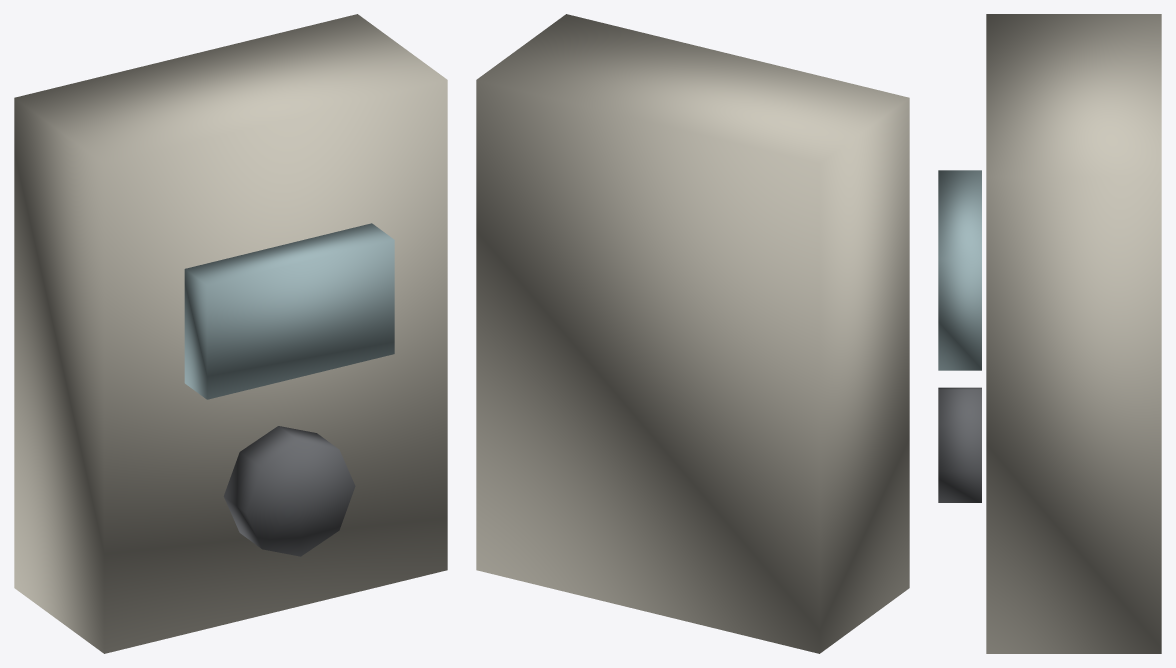
File: wall_thermostat.glb
The picture shows the model from 3 angles, left to right: view 1: azimuth 30°, elevation 25°; view 2: azimuth 150°, elevation 25°; view 3: azimuth 270°, elevation 25°; orthographic projection. The views are drawn at different scales.
Visible parts, largest first — view 1: world; view 2: world; view 3: world.
Part boxes in pixels (x1,y1,x2,y2): world: [14, 14, 447, 653]; world: [476, 14, 909, 653]; world: [938, 14, 1161, 653].
Size of the model in its own units: 0.22 by 0.3 by 0.1275.
